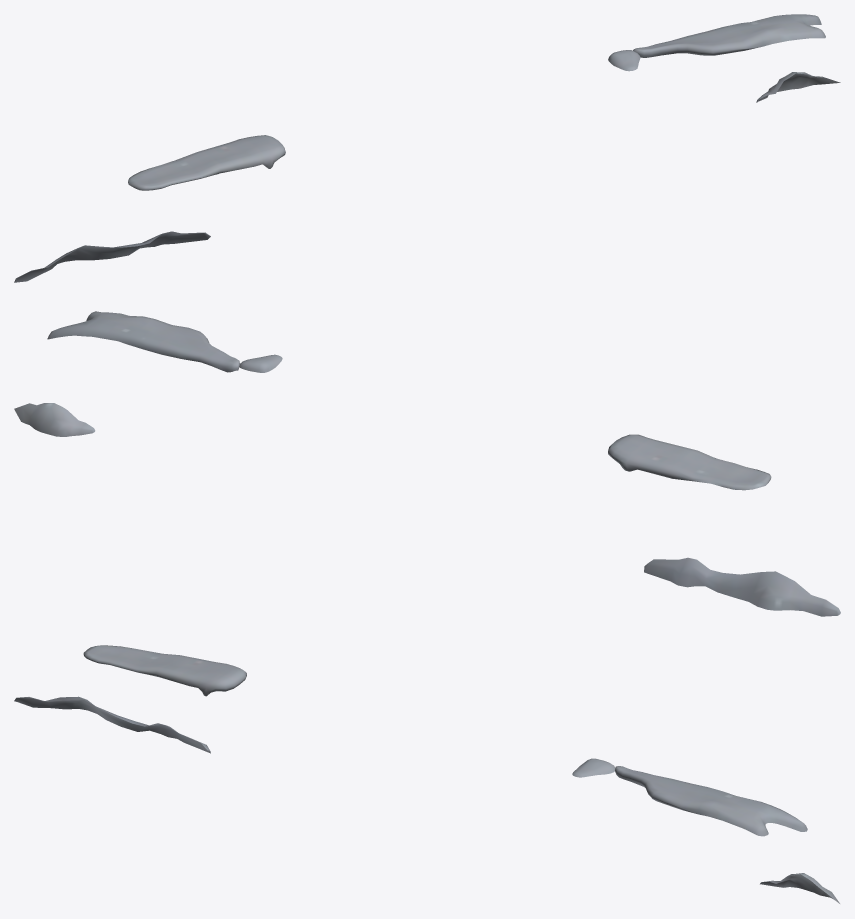
The model's file is pref_sm_beach_winter_snow17_lv3.fbx.
3 views of the same model, one above another, from view 1: azimuth 30°, elevation 25°; view 2: azimuth 150°, elevation 25°; view 3: azimuth 330°, elevation 25° (orthographic).
Visible parts, largest first — view 1: pref_sm_beach_winter_snow17_lv3; view 2: pref_sm_beach_winter_snow17_lv3; view 3: pref_sm_beach_winter_snow17_lv3.
Boxes of the visible parts, <box> form: pref_sm_beach_winter_snow17_lv3: <box>14,14,840,282</box>; pref_sm_beach_winter_snow17_lv3: <box>14,311,840,616</box>; pref_sm_beach_winter_snow17_lv3: <box>14,645,839,903</box>.
Bounding box in the file's own units: 15.97 × 1.94 × 1.59.
